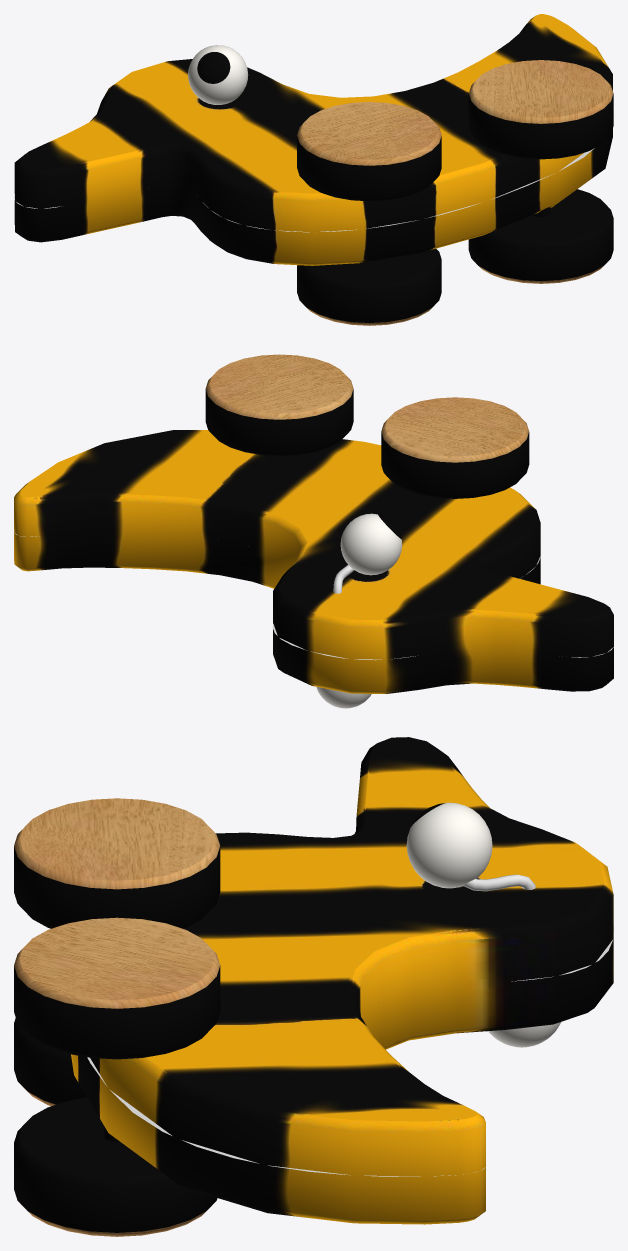
File: ente 1.fbx
3 renders of one model, top to bottom at view 1: azimuth 30°, elevation 25°; view 2: azimuth 150°, elevation 25°; view 3: azimuth 270°, elevation 25°, orthographic. The views are drawn at different scales.
Visible parts, largest first — view 1: Sphere, BezierCurve.001; view 2: Sphere; view 3: Sphere, BezierCurve.001, BezierCurve.
Boxes of the visible parts, left/top/right/bottom form: Sphere: left=14, top=14, right=613, bottom=325; BezierCurve.001: left=14, top=114, right=613, bottom=232; Sphere: left=14, top=354, right=613, bottom=708; Sphere: left=14, top=737, right=613, bottom=1236; BezierCurve.001: left=87, top=926, right=613, bottom=1176; BezierCurve: left=463, top=874, right=535, bottom=891.
Bounding box in the file's own units: 88.17 × 25.72 × 57.
